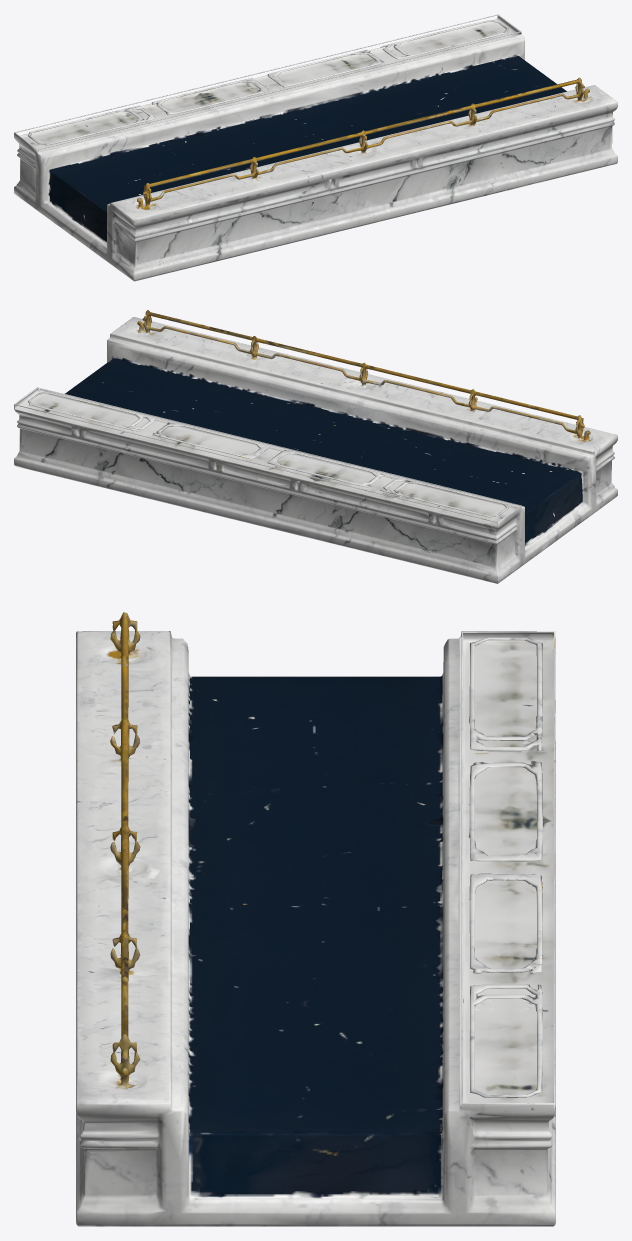
File: Marble_Water_Channel_.fbx
3 views of the same model, one above another, from view 1: azimuth 30°, elevation 25°; view 2: azimuth 150°, elevation 25°; view 3: azimuth 270°, elevation 25° (orthographic). The views are drawn at different scales.
Parts seen in each view (by area): view 1: Marble_Water_Channel__LOD0; view 2: Marble_Water_Channel__LOD0; view 3: Marble_Water_Channel__LOD0.
Part boxes in pixels (x1,y1,x2,y2): Marble_Water_Channel__LOD0: (14, 14, 617, 281); Marble_Water_Channel__LOD0: (14, 310, 617, 583); Marble_Water_Channel__LOD0: (76, 612, 555, 1226).
Size of what is drawn, in the model's own units: 1.9 by 0.3171 by 0.8145.
1 material, 1 textured.
